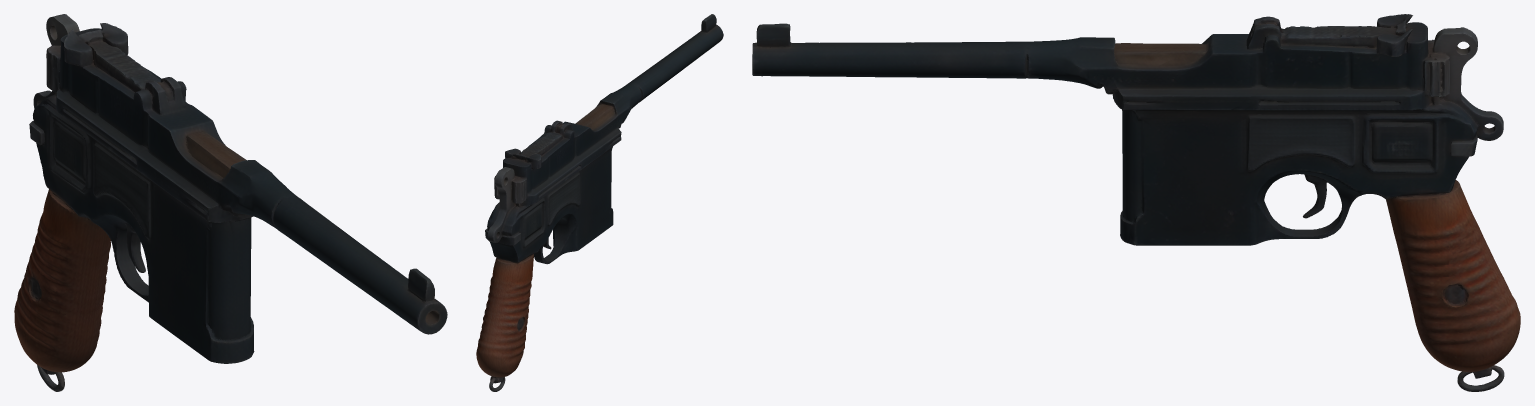
File: mauser_c96_ref.glb
3 views of the same model, side by side, from view 1: azimuth 30°, elevation 25°; view 2: azimuth 150°, elevation 25°; view 3: azimuth 270°, elevation 25° (orthographic). The views are drawn at different scales.
Visible parts, largest first — view 1: model; view 2: model; view 3: model.
Part boxes in pixels (x1,y1,x2,y2): model: (14,14,447,391); model: (476,14,723,391); model: (752,14,1520,391).
Size of the model in its own units: 0.1607 by 0.9674 by 1.82.
Materials: 1 (1 with a texture image).
